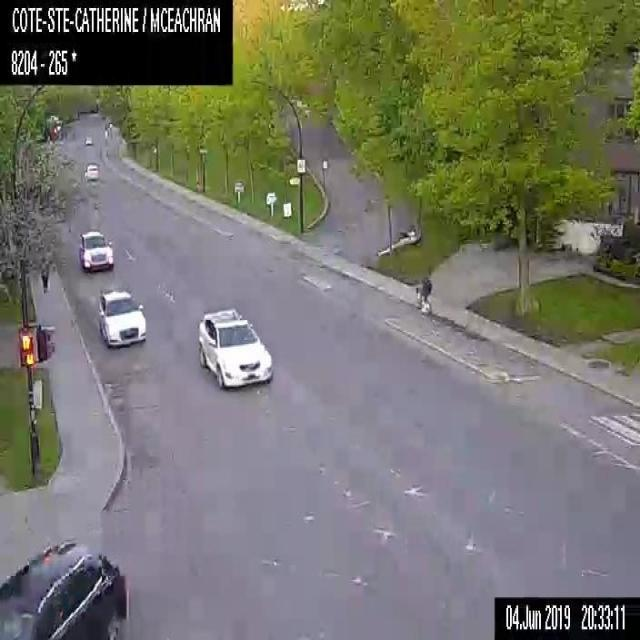cyclist: (414, 275, 433, 312)
vehicle: (0, 537, 131, 639), (197, 306, 273, 391), (96, 286, 146, 346), (77, 228, 115, 272), (84, 162, 99, 180), (85, 136, 93, 144)
